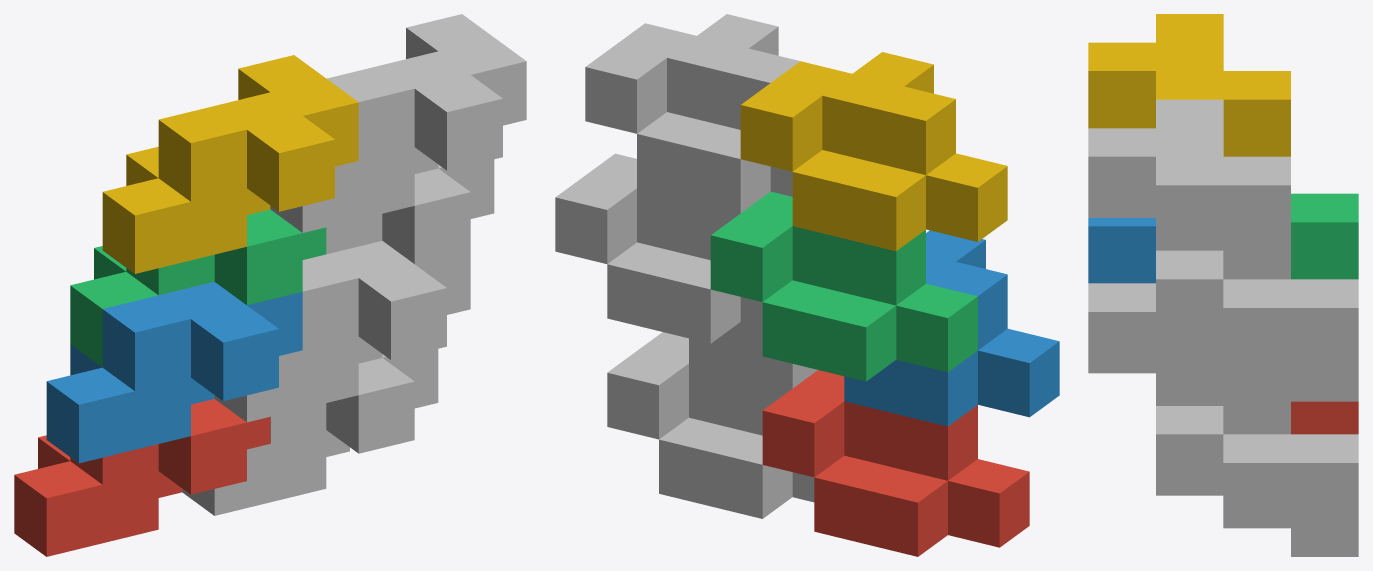
File: tiling.obj
The picture shows the model from 3 angles, left to right: view 1: azimuth 30°, elevation 25°; view 2: azimuth 150°, elevation 25°; view 3: azimuth 270°, elevation 25°; orthographic projection. The views are drawn at different scales.
Visible parts, largest first — view 1: copy_1_domain_4, copy_1_domain_2, copy_1_domain_8, copy_1_domain_6, copy_1_domain_1, copy_1_domain_5, copy_1_domain_3, copy_1_domain_7; view 2: copy_1_domain_4, copy_1_domain_3, copy_1_domain_1, copy_1_domain_8, copy_1_domain_7, copy_1_domain_5, copy_1_domain_2, copy_1_domain_6; view 3: copy_1_domain_8, copy_1_domain_5, copy_1_domain_7, copy_1_domain_4, copy_1_domain_6, copy_1_domain_3, copy_1_domain_2, copy_1_domain_1.
Part boxes in pixels (x1,y1,x2,y2): copy_1_domain_4: (102, 55, 358, 273); copy_1_domain_2: (46, 281, 302, 463); copy_1_domain_8: (270, 14, 526, 232); copy_1_domain_6: (214, 240, 470, 422); copy_1_domain_1: (14, 399, 270, 556); copy_1_domain_5: (182, 349, 438, 515); copy_1_domain_3: (70, 209, 326, 367); copy_1_domain_7: (326, 159, 494, 264); copy_1_domain_4: (740, 52, 1007, 251); copy_1_domain_3: (710, 191, 977, 381); copy_1_domain_1: (762, 370, 1029, 556); copy_1_domain_8: (585, 14, 799, 213); copy_1_domain_7: (555, 153, 762, 343); copy_1_domain_5: (607, 332, 814, 518); copy_1_domain_2: (844, 230, 1059, 426); copy_1_domain_6: (689, 322, 817, 388); copy_1_domain_8: (1088, 99, 1290, 279); copy_1_domain_5: (1156, 406, 1358, 556); copy_1_domain_7: (1156, 250, 1358, 401); copy_1_domain_4: (1088, 14, 1290, 156); copy_1_domain_6: (1088, 283, 1290, 434); copy_1_domain_3: (1291, 193, 1358, 279); copy_1_domain_2: (1088, 218, 1155, 283); copy_1_domain_1: (1291, 401, 1358, 434).
Bounding box in the file's own units: 8 × 7 × 4.
